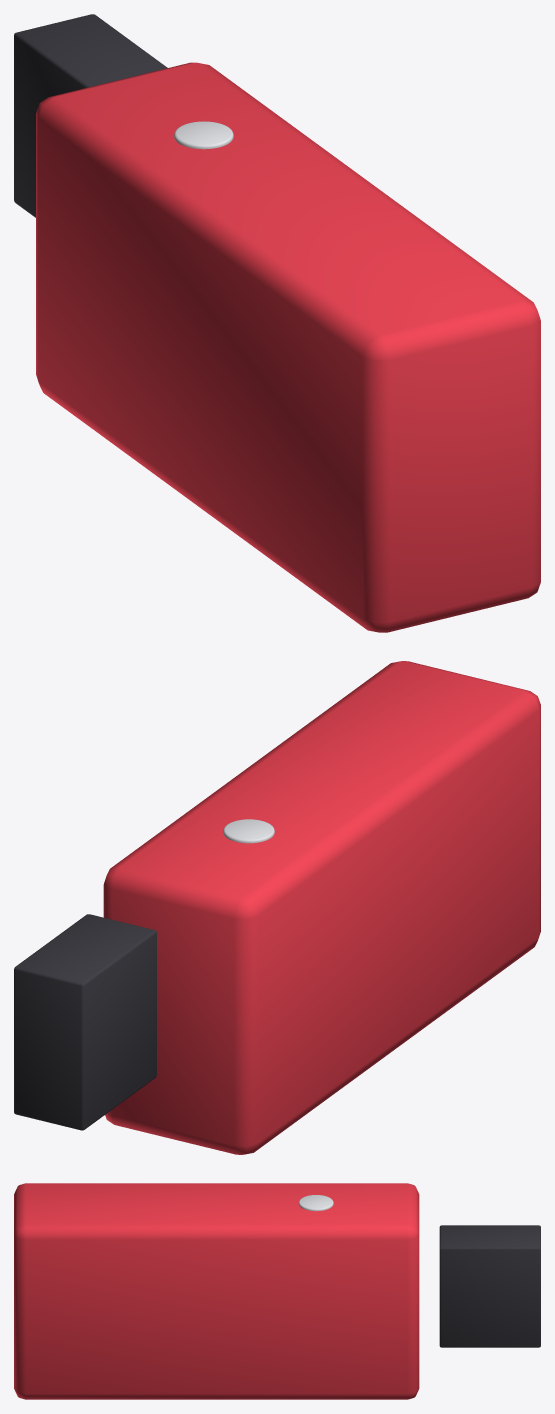
File: hypercar_rear_haunch_left.glb
3 views of the same model, one above another, from view 1: azimuth 30°, elevation 25°; view 2: azimuth 150°, elevation 25°; view 3: azimuth 270°, elevation 25° (orthographic). The views are drawn at different scales.
Visible parts, largest first — view 1: Hypercar_Rear_Haunch_Left; view 2: Hypercar_Rear_Haunch_Left; view 3: Hypercar_Rear_Haunch_Left.
Boxes of the visible parts, x1,y1,x2,y2 form: Hypercar_Rear_Haunch_Left: [14, 14, 540, 632]; Hypercar_Rear_Haunch_Left: [14, 661, 540, 1154]; Hypercar_Rear_Haunch_Left: [14, 1183, 540, 1399].
Bounding box in the file's own units: 0.26 × 0.425 × 1.14.
